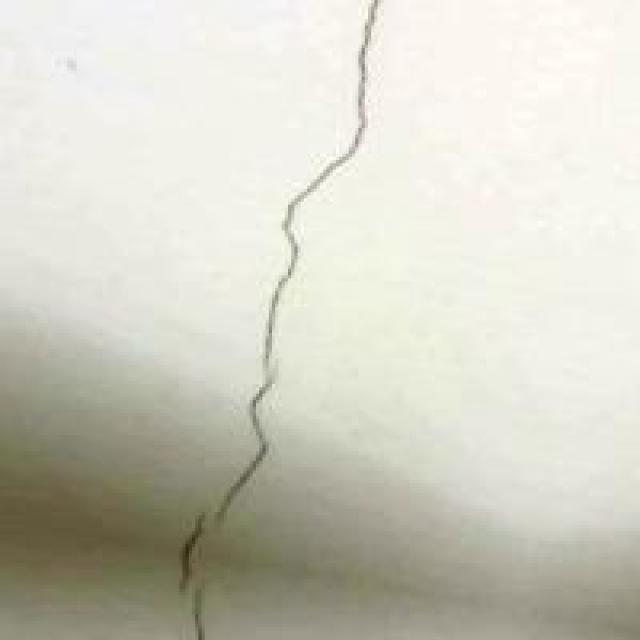Crack: (166, 0, 432, 637)
